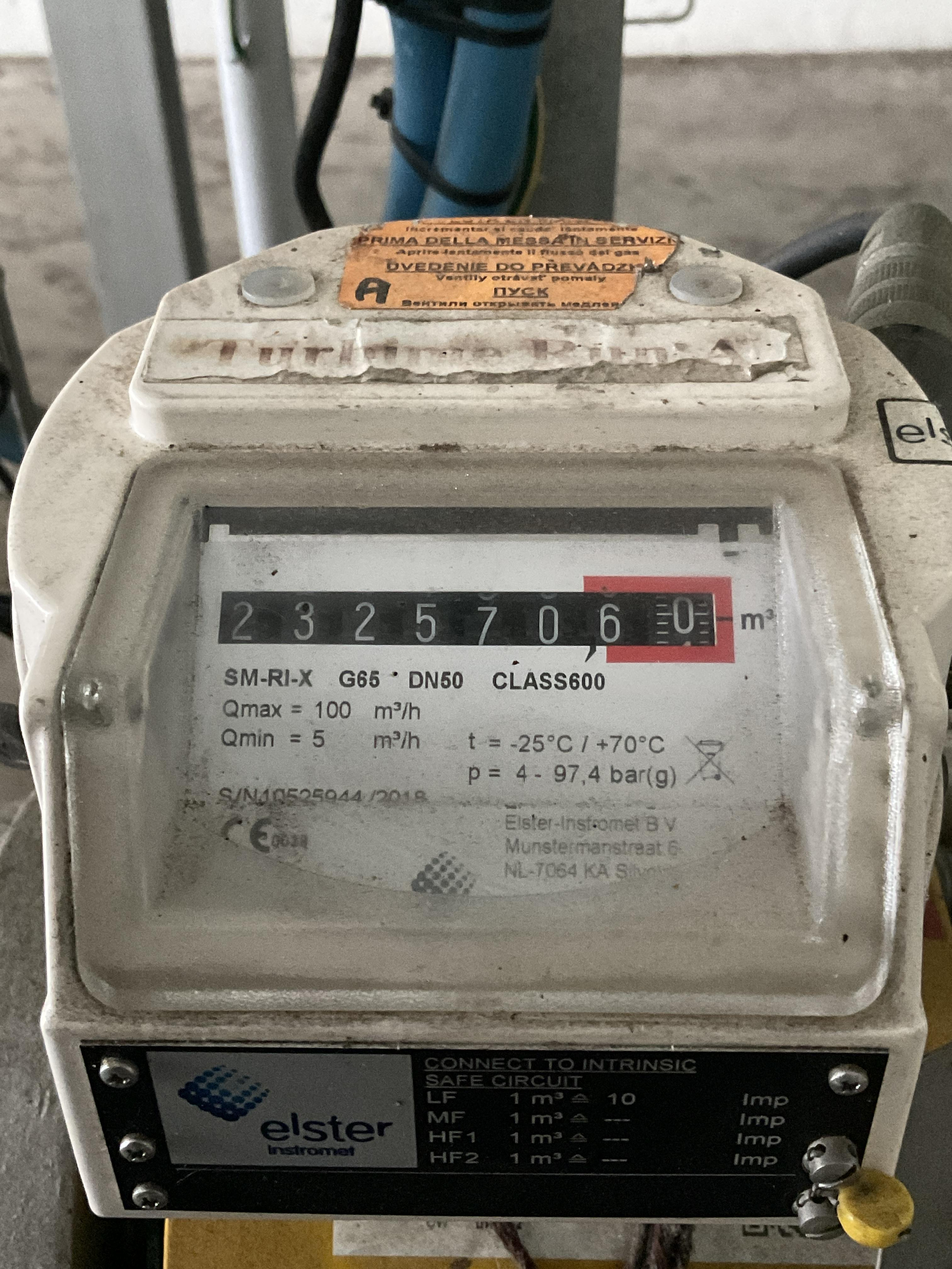analog_dial: (211, 572, 739, 667)
